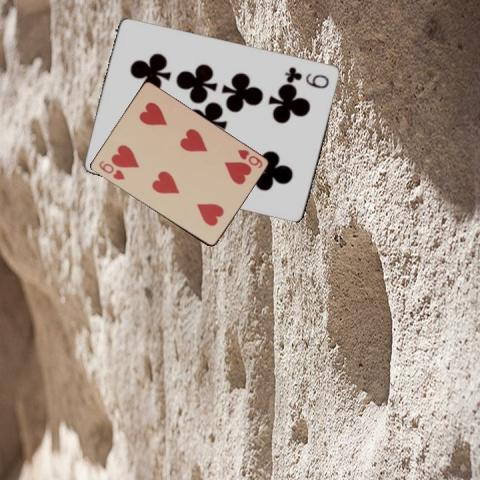6h: (96, 158, 126, 182), (234, 147, 264, 170)
9c: (282, 63, 331, 89)
